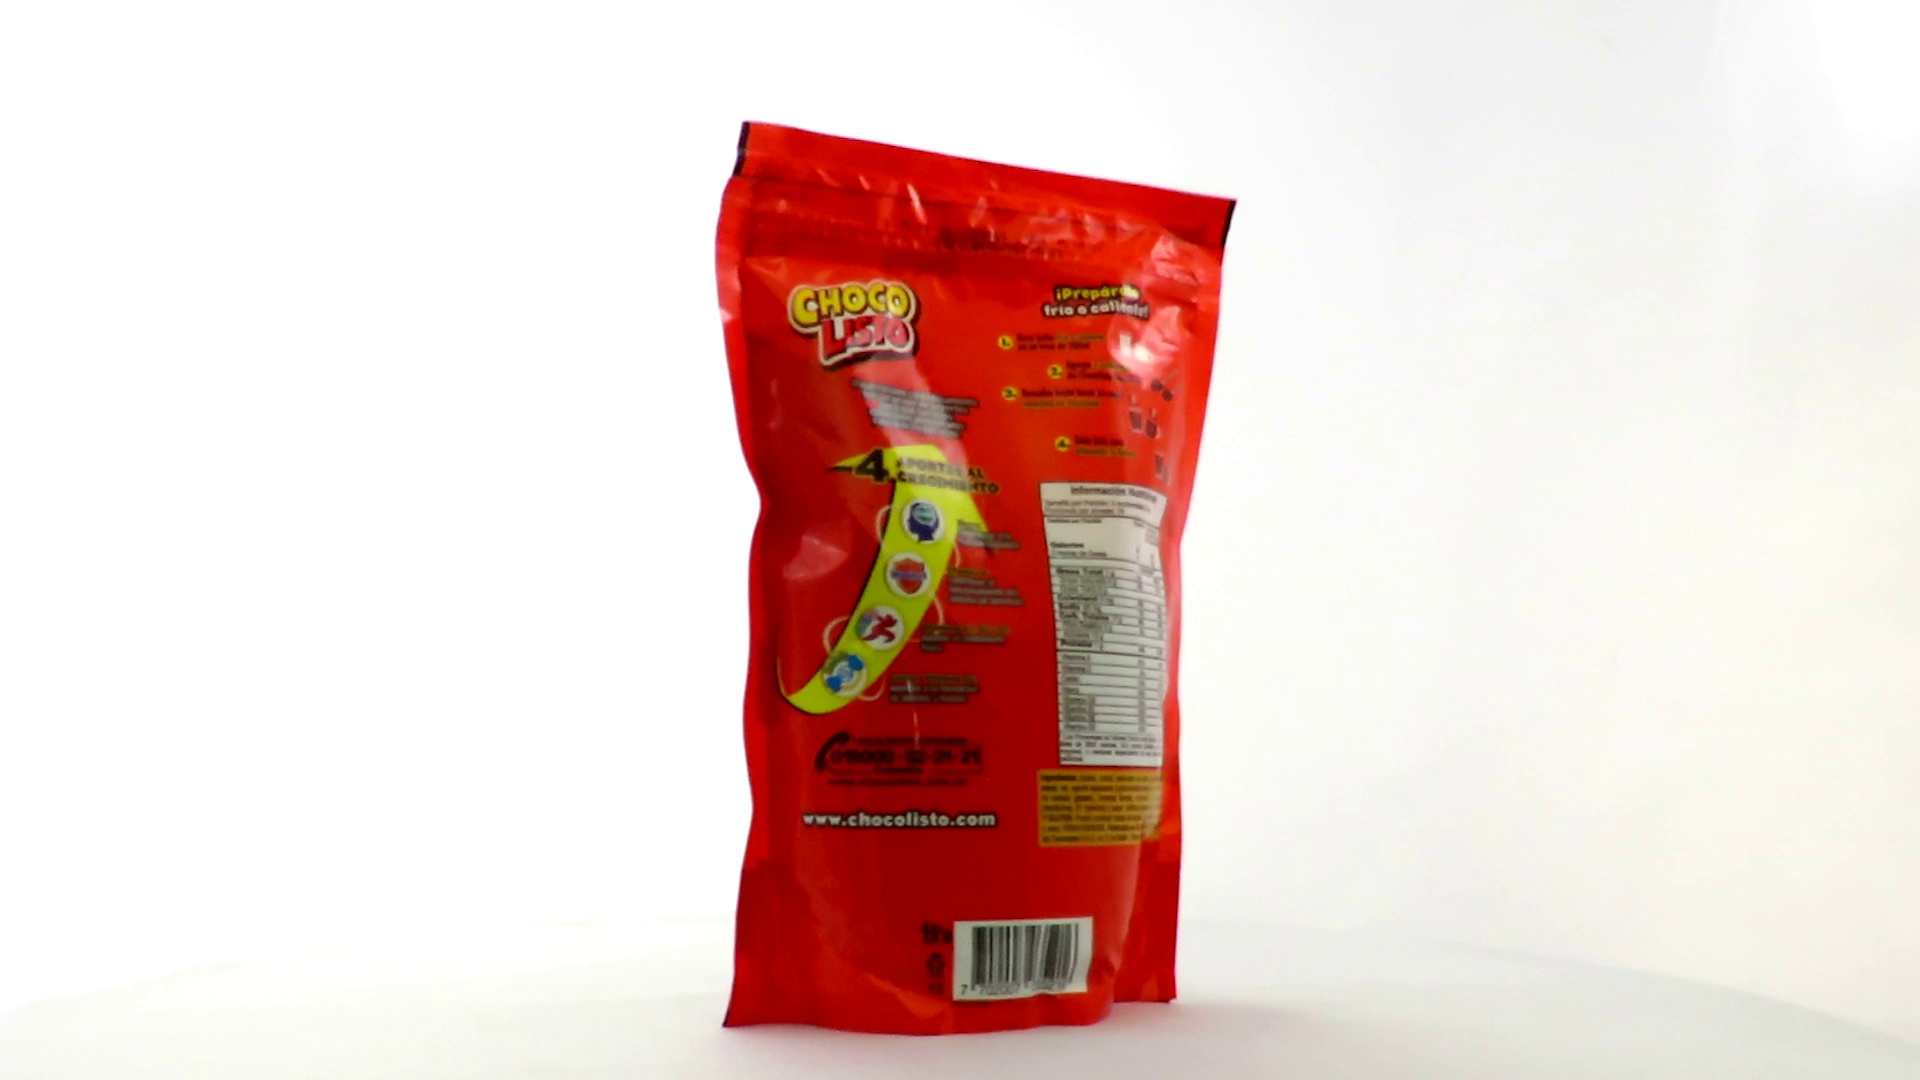COL0170103DYP36000: (709, 115, 1244, 1043)
